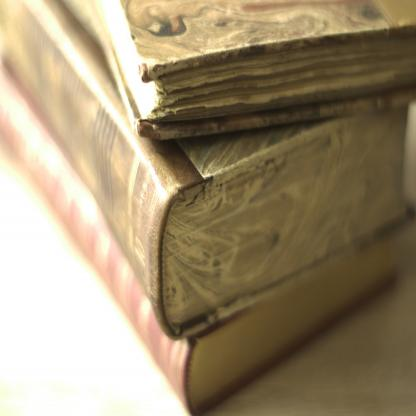book: (0, 74, 416, 416), (0, 0, 412, 340), (114, 24, 416, 165)
